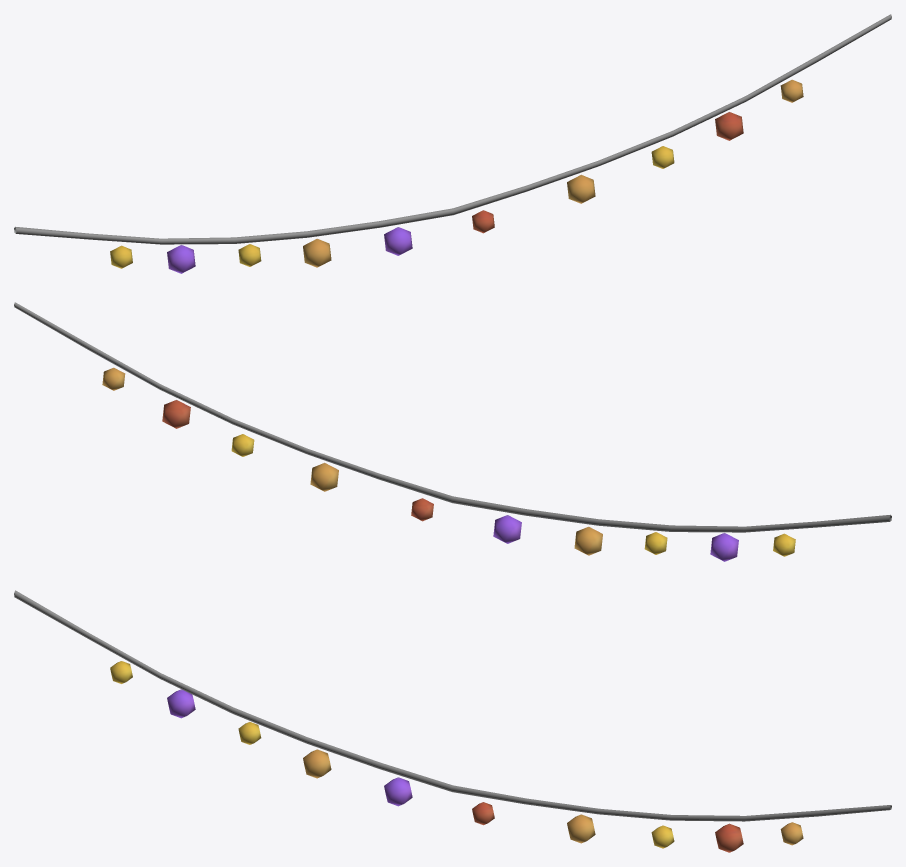
The model's file is pref_sm_city_light03_snow_lv3.fbx.
3 views of the same model, one above another, from view 1: azimuth 30°, elevation 25°; view 2: azimuth 150°, elevation 25°; view 3: azimuth 330°, elevation 25° (orthographic).
Parts seen in each view (by area): view 1: pref_sm_city_light03_snow_lv3; view 2: pref_sm_city_light03_snow_lv3; view 3: pref_sm_city_light03_snow_lv3.
Part boxes in pixels (left/top/right/bottom): pref_sm_city_light03_snow_lv3: left=14, top=14, right=891, bottom=273; pref_sm_city_light03_snow_lv3: left=14, top=302, right=891, bottom=561; pref_sm_city_light03_snow_lv3: left=14, top=590, right=891, bottom=852.
Size of the model in its own units: 11.37 by 1.52 by 0.3084.
